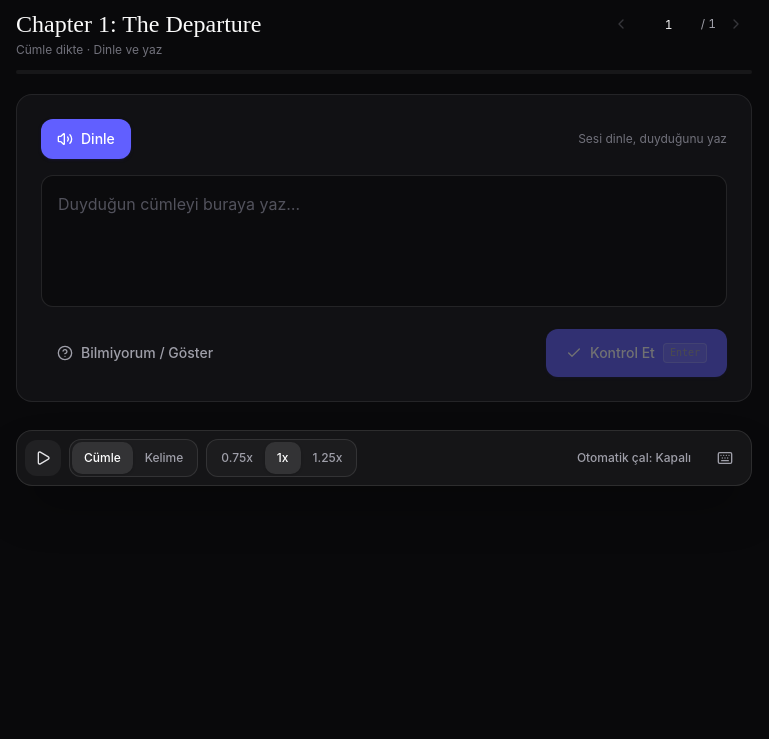
it: StudySessionView Component (Faz 1 & Faz 3) › giving up via Bilmiyorum / Göster reveals answer with 0 accuracy in reviewing state
Click the button "Bilmiyorum / Göster" at (135, 352), box [41,332,229,372]
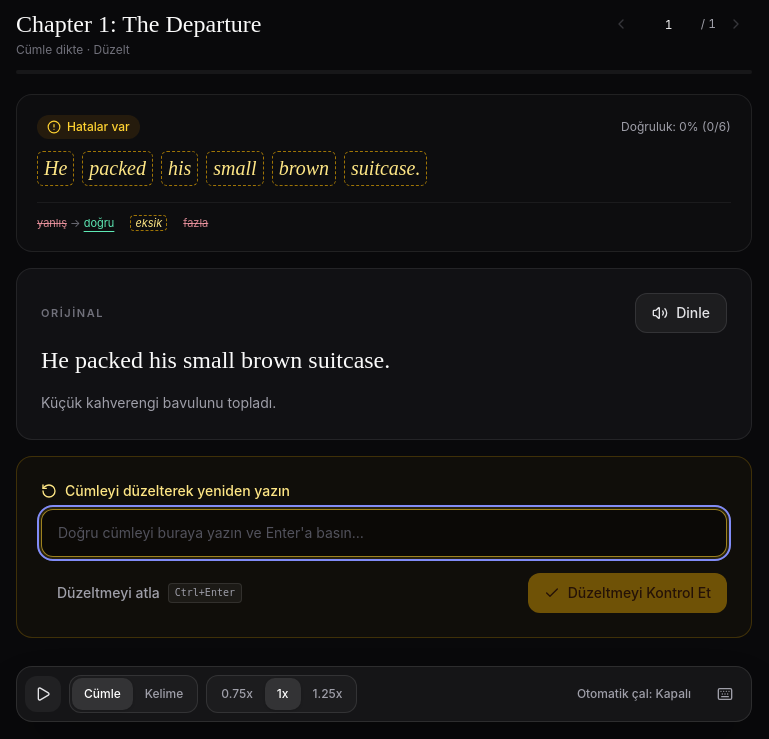
Expected: the element named "Orijinal cümle" reads "He packed his small brown suitcase.", [41,341,390,380]
Expected: the text "Küçük kahverengi bavulunu topladı." is shown, [41,394,276,411]
Expected: the text "Doğruluk: 0% (0/6)" is shown, [621,119,731,135]
